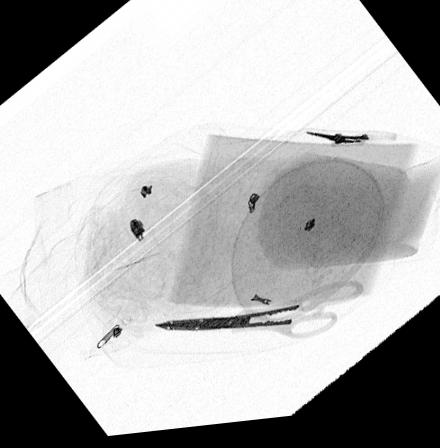Scissors: (151, 285, 364, 347), (303, 139, 398, 154)
